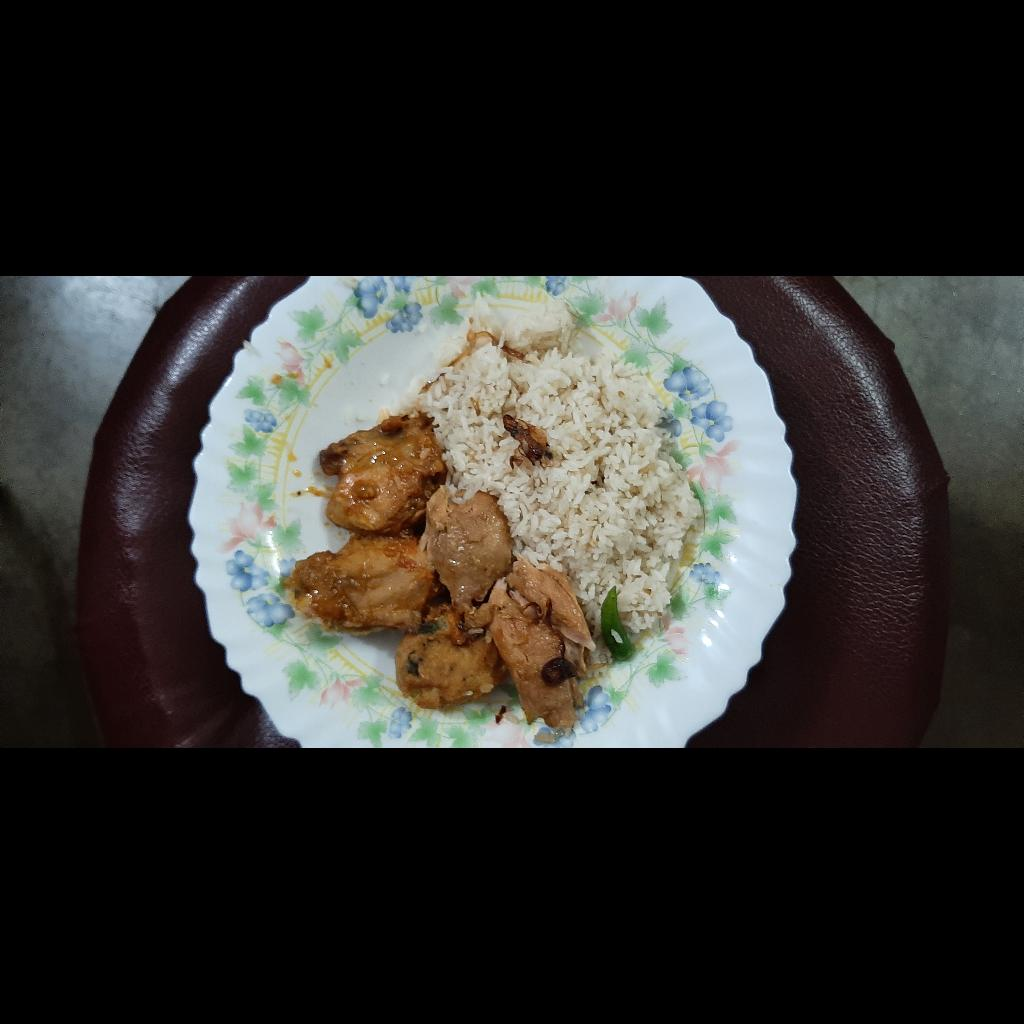beef: (12, 554, 340, 875)
rice: (82, 659, 456, 984)
